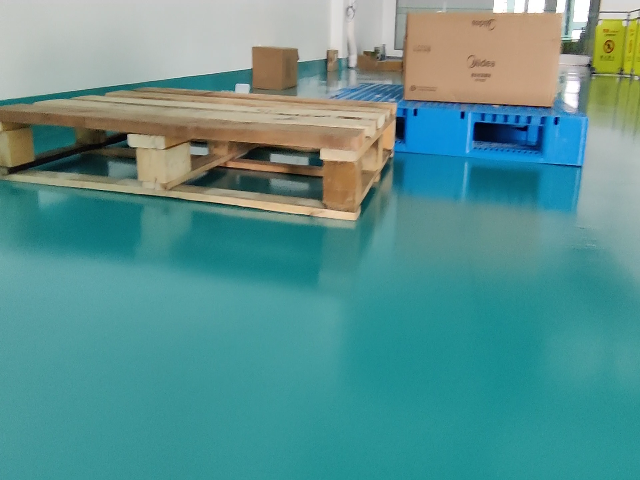block: (408, 103, 473, 158), (317, 138, 361, 210), (130, 124, 171, 196), (543, 113, 588, 167), (1, 112, 35, 173)
